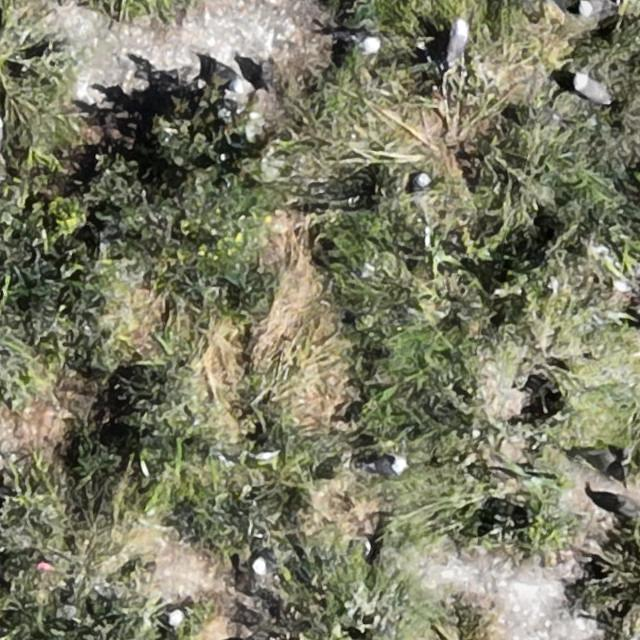umineko: (161, 604, 204, 630), (213, 61, 246, 94), (358, 34, 405, 54), (575, 76, 609, 102), (367, 458, 404, 477), (450, 20, 467, 56), (253, 554, 276, 578), (579, 0, 609, 16), (410, 174, 430, 191)
